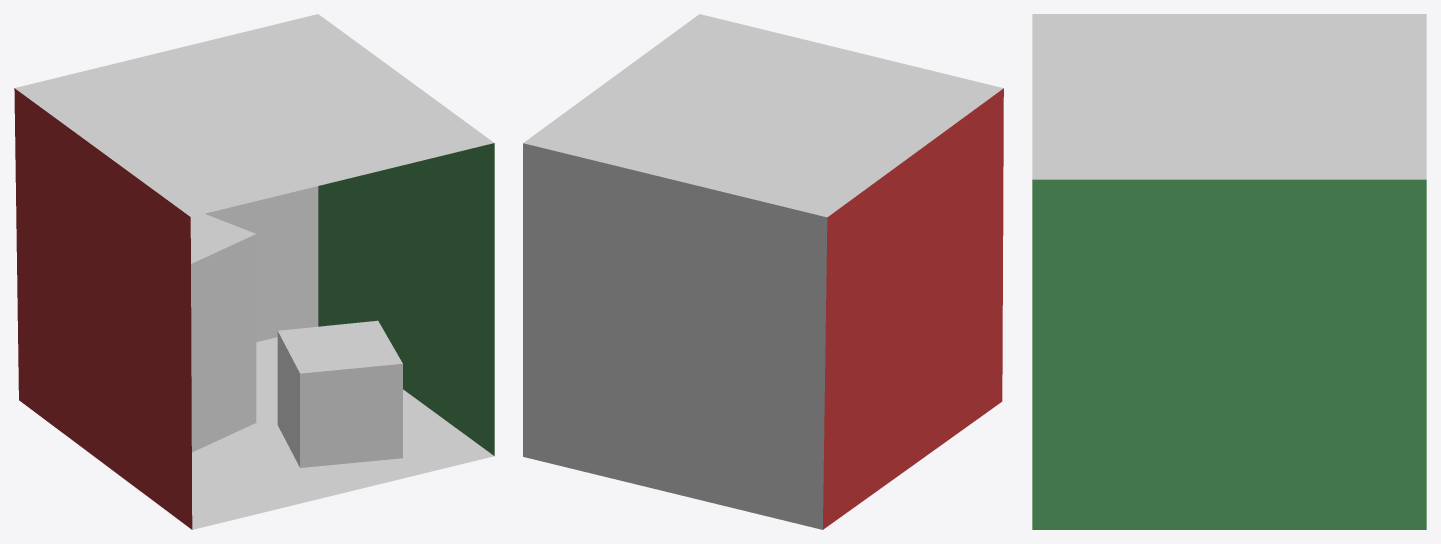
The model's file is cornell.gltf.
3 renders of one model, left to right at view 1: azimuth 30°, elevation 25°; view 2: azimuth 150°, elevation 25°; view 3: azimuth 270°, elevation 25°, orthographic. The views are drawn at different scales.
Parts seen in each view (by area): view 1: CornellBox-Mirror.005, CornellBox-Mirror.002, CornellBox-Mirror.004, CornellBox-Mirror.000, CornellBox-Mirror.006, CornellBox-Mirror.007, CornellBox-Mirror.003; view 2: CornellBox-Mirror.003, CornellBox-Mirror.005, CornellBox-Mirror.002; view 3: CornellBox-Mirror.004, CornellBox-Mirror.002.
Part boxes in pixels (x1,y1,x2,y2): CornellBox-Mirror.005: (14,88,192,529); CornellBox-Mirror.002: (15,14,493,216); CornellBox-Mirror.004: (318,143,494,455); CornellBox-Mirror.000: (192,337,493,529); CornellBox-Mirror.006: (277,320,402,467); CornellBox-Mirror.007: (190,213,256,452); CornellBox-Mirror.003: (205,186,318,342); CornellBox-Mirror.003: (523,143,827,529); CornellBox-Mirror.005: (823,88,1003,529); CornellBox-Mirror.002: (523,14,1003,217); CornellBox-Mirror.004: (1032,179,1426,529); CornellBox-Mirror.002: (1032,14,1426,179).
Size of the model in its own units: 2.02 by 1.99 by 2.03.
